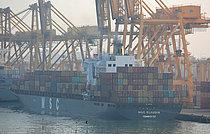Ship: (8, 46, 189, 128)
